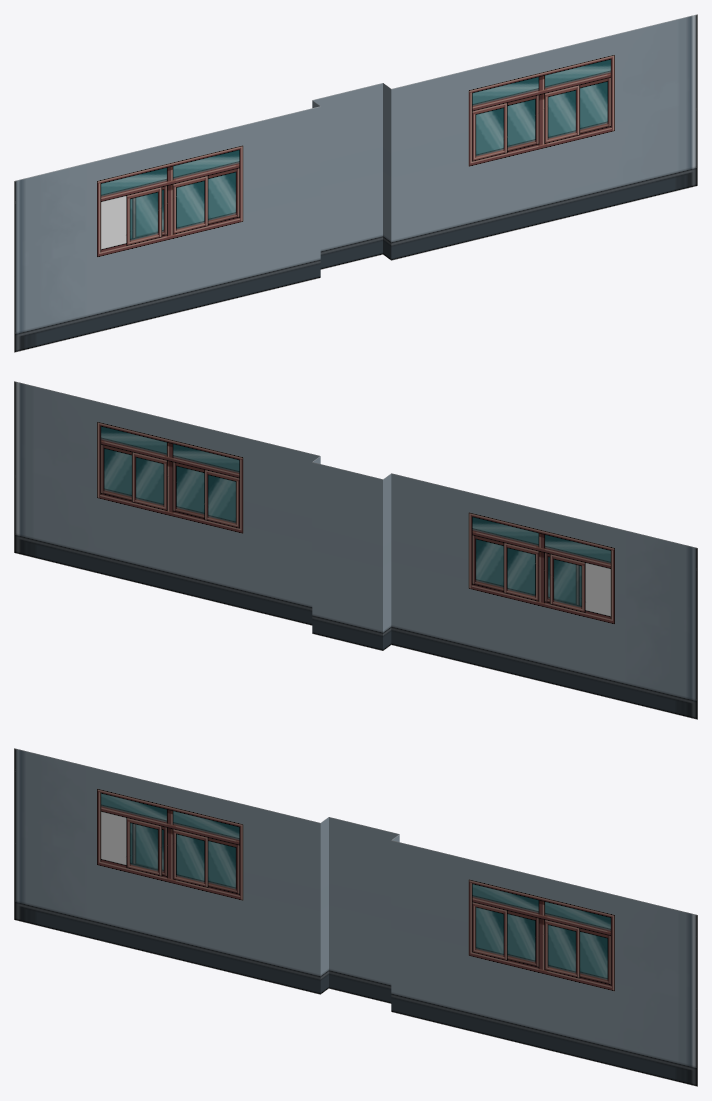
Rendered from ClassRoom_wall_out.fbx.
3 views of the same model, one above another, from view 1: azimuth 30°, elevation 25°; view 2: azimuth 150°, elevation 25°; view 3: azimuth 330°, elevation 25° (orthographic).
Parts seen in each view (by area): view 1: ClassRoom_wall_out; view 2: ClassRoom_wall_out; view 3: ClassRoom_wall_out.
Boxes of the visible parts, x1,y1,x2,y2 form: ClassRoom_wall_out: (14,14,697,352); ClassRoom_wall_out: (14,381,697,719); ClassRoom_wall_out: (14,748,697,1086).
Bounding box in the file's own units: 1500 × 360 × 31.57.
